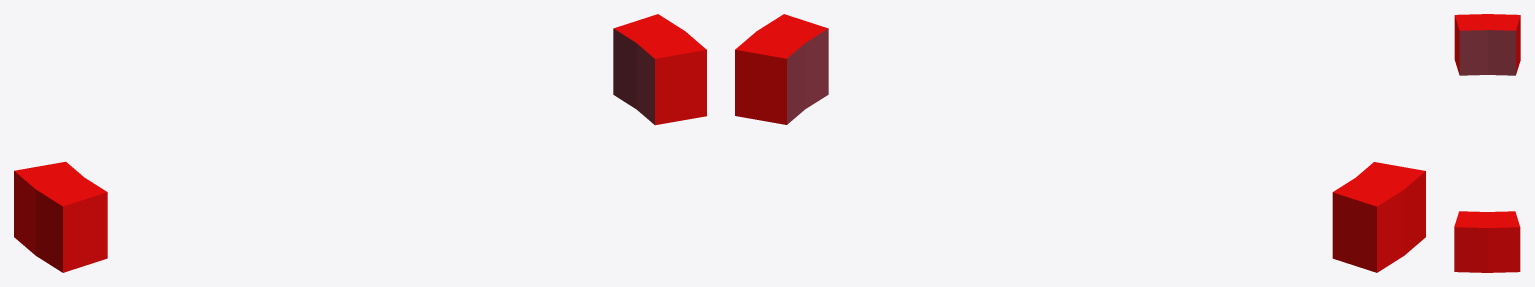
The model's file is Obstacle3.fbx.
3 views of the same model, side by side, from view 1: azimuth 30°, elevation 25°; view 2: azimuth 150°, elevation 25°; view 3: azimuth 270°, elevation 25° (orthographic). The views are drawn at different scales.
Visible parts, largest first — view 1: Obstacle3; view 2: Obstacle3; view 3: Obstacle3.
Boxes of the visible parts, x1,y1,x2,y2 form: Obstacle3: (14, 14, 706, 272); Obstacle3: (735, 14, 1425, 272); Obstacle3: (1454, 14, 1520, 272).
Size of the model in its own units: 200 by 19.55 by 26.31.
